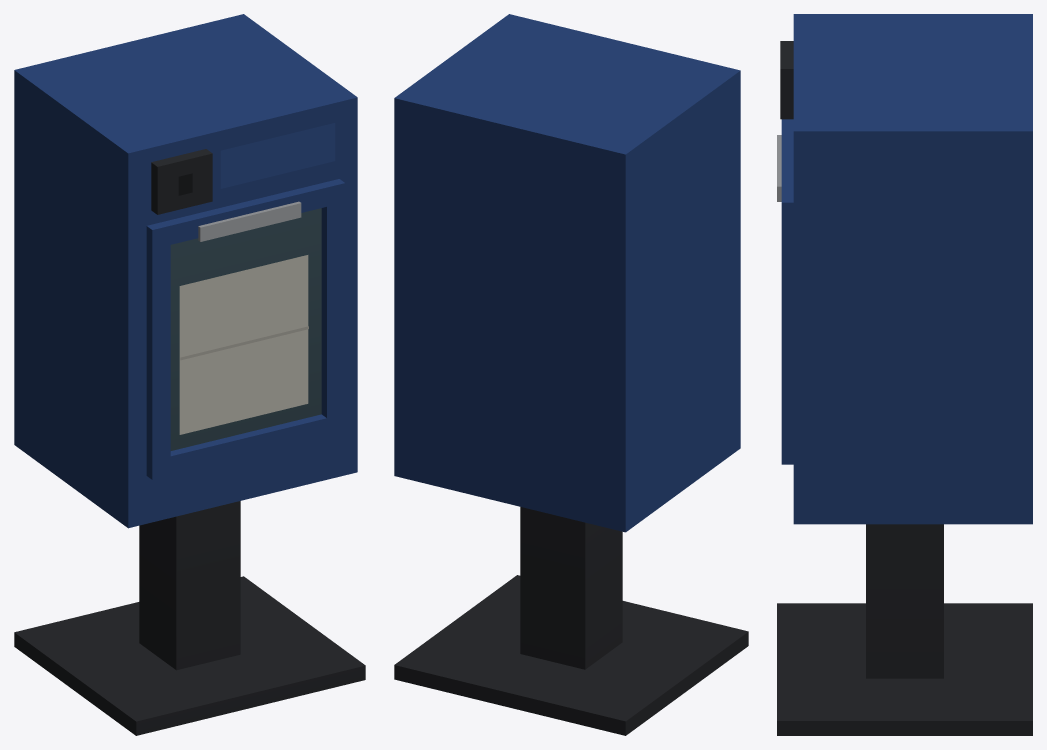
Rendered from street.newsbox.blue.glb.
3 views of the same model, side by side, from view 1: azimuth 30°, elevation 25°; view 2: azimuth 150°, elevation 25°; view 3: azimuth 270°, elevation 25° (orthographic). The views are drawn at different scales.
Parts seen in each view (by area): view 1: street_newsbox_blue; view 2: street_newsbox_blue; view 3: street_newsbox_blue.
Boxes of the visible parts, x1,y1,x2,y2 form: street_newsbox_blue: [14, 14, 365, 735]; street_newsbox_blue: [394, 14, 748, 735]; street_newsbox_blue: [777, 14, 1032, 735].
Size of what is drawn, in the model's own units: 0.5 by 1.2 by 0.46.
